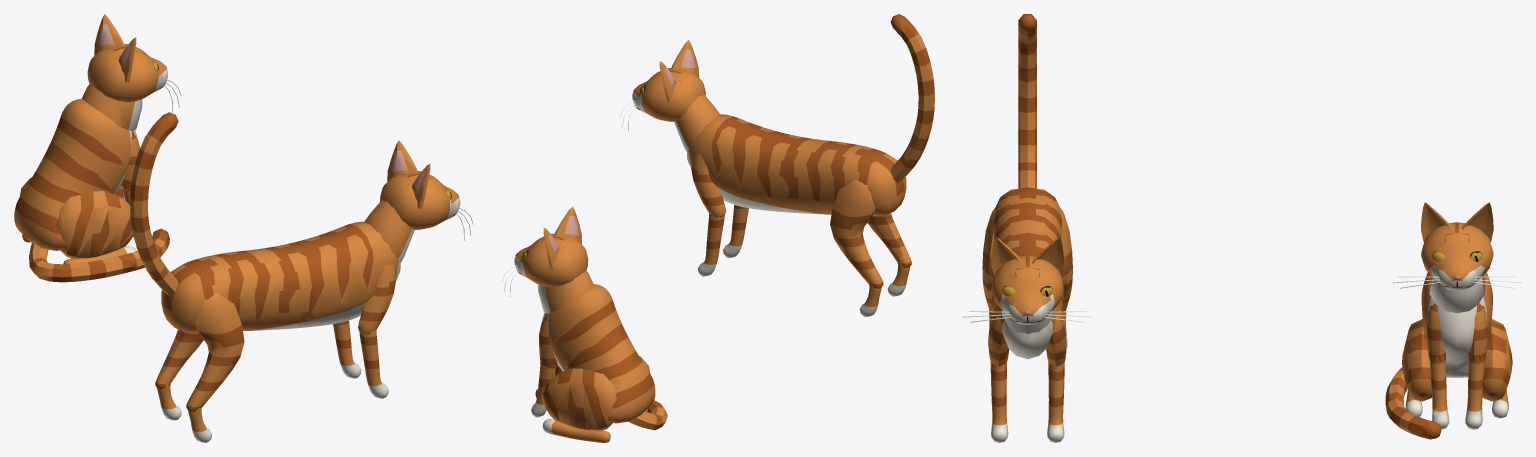
Rendered from cat.glb.
3 renders of one model, left to right at view 1: azimuth 30°, elevation 25°; view 2: azimuth 150°, elevation 25°; view 3: azimuth 270°, elevation 25°, orthographic. The views are drawn at different scales.
Parts seen in each view (by area): view 1: body, cat_sit__cat_ginger, head__cat_ginger, head.001__cat_ginger, limb_upper.003, tail_fur, limb_upper.002, limb_upper.001, limb_lower.002, limb_lower, ear.002, limb_lower.001 (+4 smaller); view 2: cat_sit__cat_ginger, body, head__cat_ginger, head.001__cat_ginger, limb_upper.001, tail_fur, limb_upper, limb_upper.003, limb_lower, limb_lower.002, ear.003, limb_lower.003 (+1 smaller); view 3: cat_sit__cat_ginger, body, head__cat_ginger, head.001__cat_ginger, tail_fur, limb_lower, limb_lower.002, tail_fur.002, limb_lower.005, limb_upper.001, limb_upper.003, limb_upper (+4 smaller).
Boxes of the visible parts, x1,y1,x2,y2 form: body: (161,221,400,332); cat_sit__cat_ginger: (14,98,138,282); head__cat_ginger: (364,140,460,263); head.001__cat_ginger: (82,44,167,130); limb_upper.003: (186,293,244,412); tail_fur: (130,112,178,296); limb_upper.002: (358,264,395,334); limb_upper.001: (155,329,203,389); limb_lower.002: (359,330,388,398); limb_lower: (333,320,361,378); ear.002: (94,14,124,55); limb_lower.001: (157,377,181,420); cat_sit__cat_ginger: (531,284,667,442); body: (687,114,906,216); head__cat_ginger: (632,40,720,152); head.001__cat_ginger: (514,233,593,313); limb_upper.001: (830,179,883,288); tail_fur: (890,14,934,182); limb_upper: (691,154,725,217); limb_upper.003: (867,213,911,267); limb_lower: (697,213,724,276); limb_lower.002: (723,205,748,257); ear.003: (554,206,581,244); limb_lower.003: (887,257,910,296); cat_sit__cat_ginger: (1385,272,1512,429); body: (992,187,1063,359); head__cat_ginger: (991,237,1063,333); head.001__cat_ginger: (1421,222,1493,313); tail_fur: (1018,14,1036,188); limb_lower: (1047,361,1064,442); limb_lower.002: (990,361,1008,442); tail_fur.002: (1386,398,1441,439); limb_lower.005: (1429,355,1449,429); limb_upper.001: (1059,207,1072,311); limb_upper.003: (982,207,995,311); limb_upper: (1046,307,1066,366).
Size of the model in its own units: 0.224 by 0.2115 by 0.3253.
